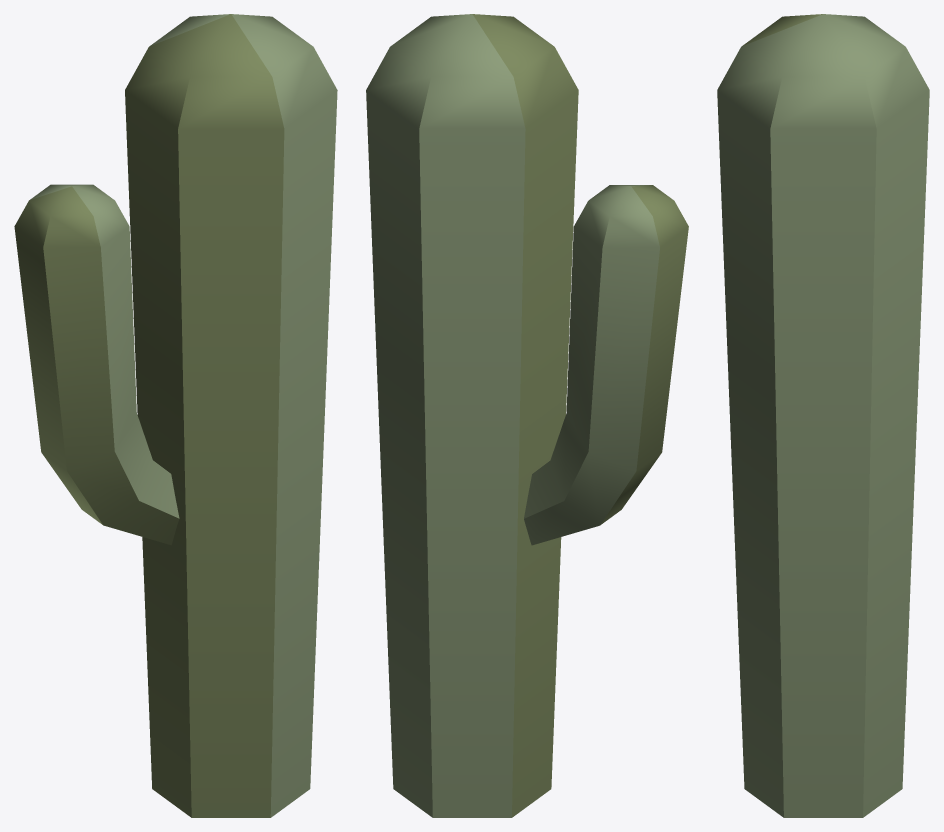
Rendered from RW_HG_Environment_Tree_Cactus.003.fbx.
3 views of the same model, side by side, from view 1: azimuth 30°, elevation 25°; view 2: azimuth 150°, elevation 25°; view 3: azimuth 270°, elevation 25° (orthographic).
Visible parts, largest first — view 1: RW_HG_Environment_Tree_Cactus.003; view 2: RW_HG_Environment_Tree_Cactus.003; view 3: RW_HG_Environment_Tree_Cactus.003.
Boxes of the visible parts, x1,y1,x2,y2 form: RW_HG_Environment_Tree_Cactus.003: (14,14,337,817); RW_HG_Environment_Tree_Cactus.003: (366,14,688,817); RW_HG_Environment_Tree_Cactus.003: (717,14,929,817).
Bounding box in the file's own units: 0.2237 × 0.5875 × 0.1461.
